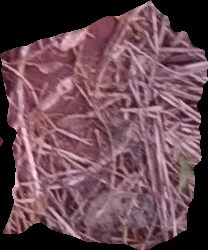soil: (1, 1, 207, 249)
